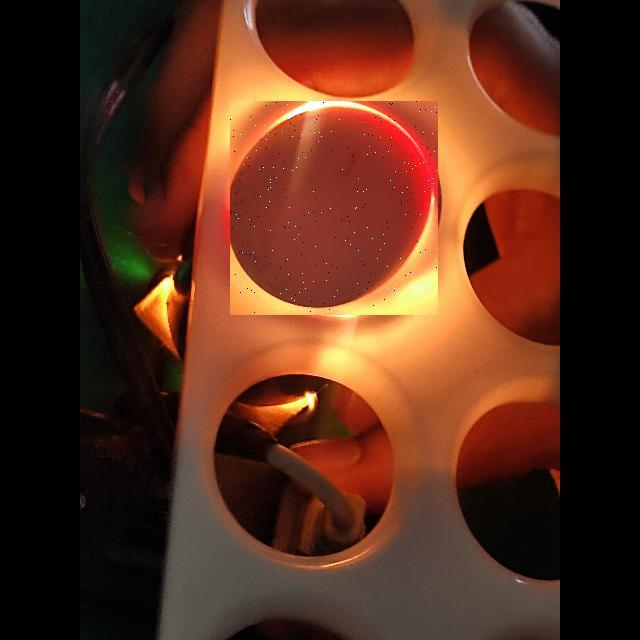Fertile: (230, 101, 438, 315)
